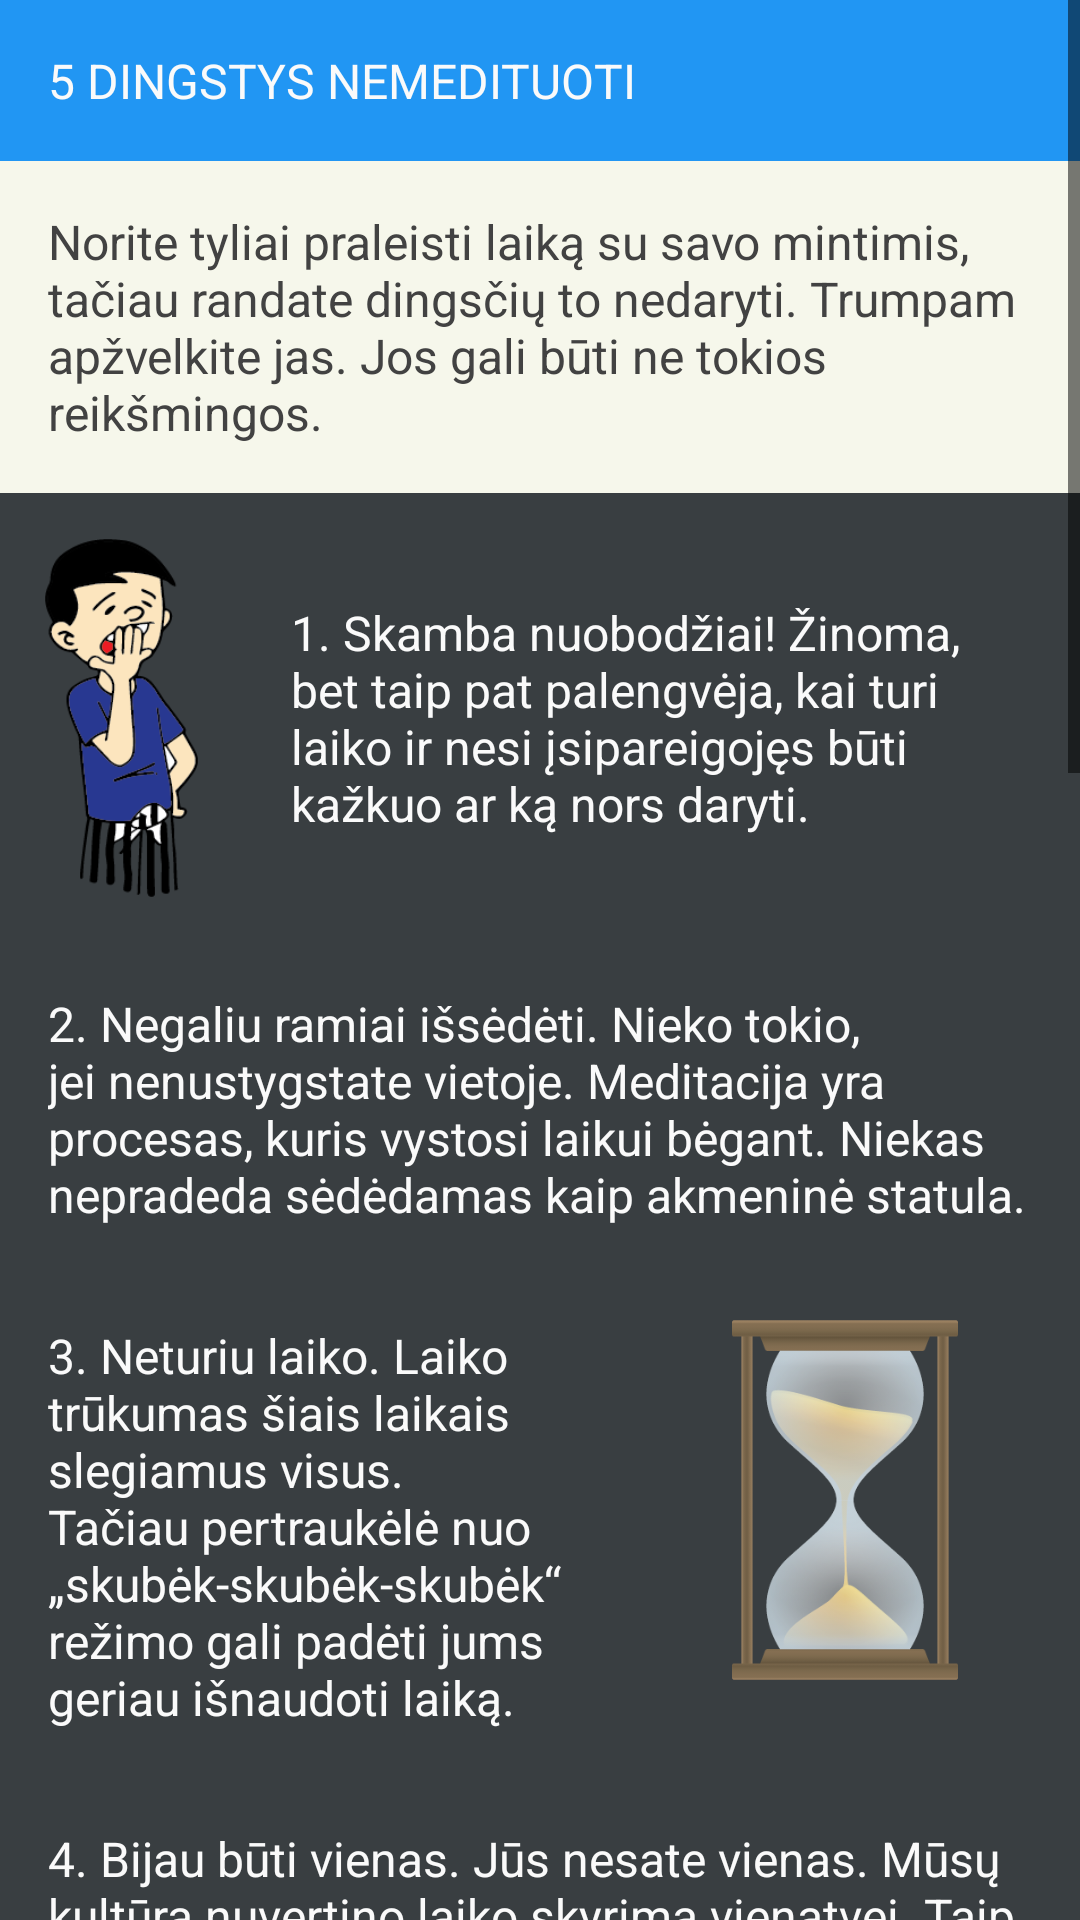

Point at icon controls on the screen. Image size 1080px x 1920px, points as (x=x, y=y).
boring: (x=121, y=718)
hourglass: (x=845, y=1500)
